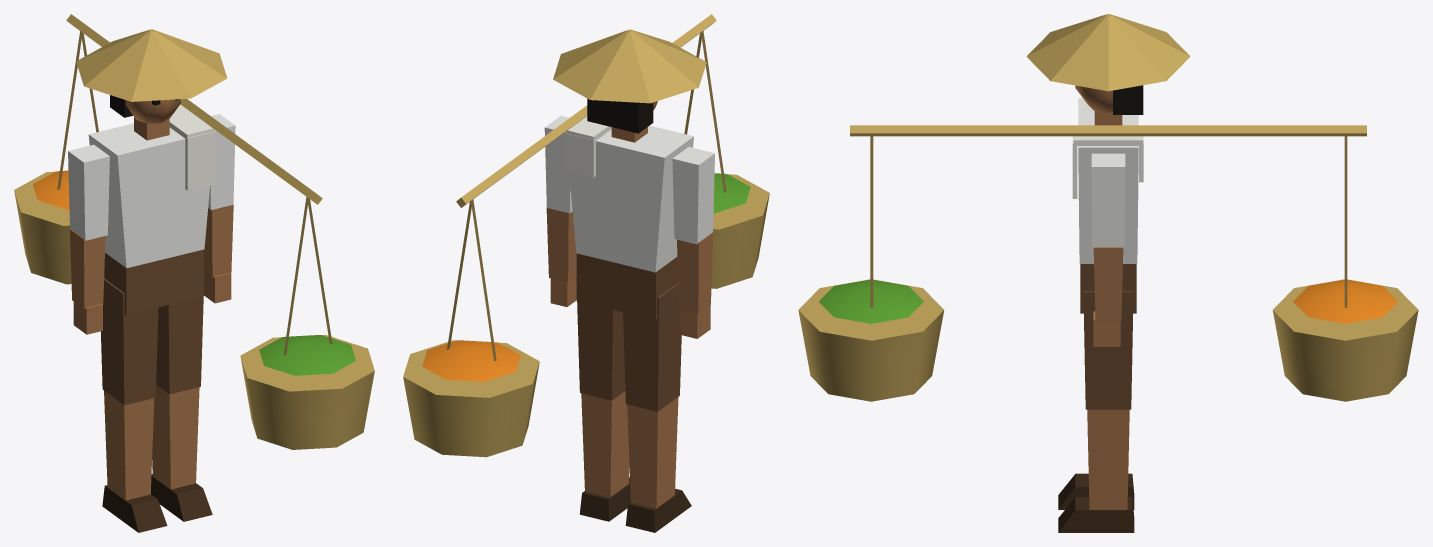
Rendered from npc_pkl.glb.
The picture shows the model from 3 angles, left to right: view 1: azimuth 30°, elevation 25°; view 2: azimuth 150°, elevation 25°; view 3: azimuth 270°, elevation 25°; orthographic projection. The views are drawn at different scales.
Visible parts, largest first — view 1: torso, leg_r, leg_l, head, arm_r, arm_l; view 2: torso, leg_r, head, leg_l, arm_r, arm_l; view 3: torso, leg_l, head, arm_l, leg_r.
Boxes of the visible parts, x1=… form: torso: x1=14, y1=14, x2=374, y2=449; leg_r: x1=101, y1=278, x2=167, y2=532; leg_l: x1=151, y1=274, x2=212, y2=521; head: x1=76, y1=29, x2=227, y2=123; arm_r: x1=68, y1=144, x2=109, y2=334; arm_l: x1=204, y1=114, x2=235, y2=303; torso: x1=403, y1=14, x2=769, y2=457; leg_r: x1=623, y1=283, x2=691, y2=532; head: x1=553, y1=29, x2=706, y2=133; leg_l: x1=576, y1=278, x2=630, y2=521; arm_r: x1=672, y1=147, x2=714, y2=338; arm_l: x1=544, y1=115, x2=576, y2=306; torso: x1=798, y1=98, x2=1418, y2=401; leg_l: x1=1058, y1=291, x2=1134, y2=532; head: x1=1026, y1=14, x2=1190, y2=114; arm_l: x1=1091, y1=153, x2=1125, y2=346; leg_r: x1=1058, y1=473, x2=1134, y2=509.
Size of the model in its own units: 0.7118 by 1.81 by 2.04.
Materials: 1 (1 with a texture image).
